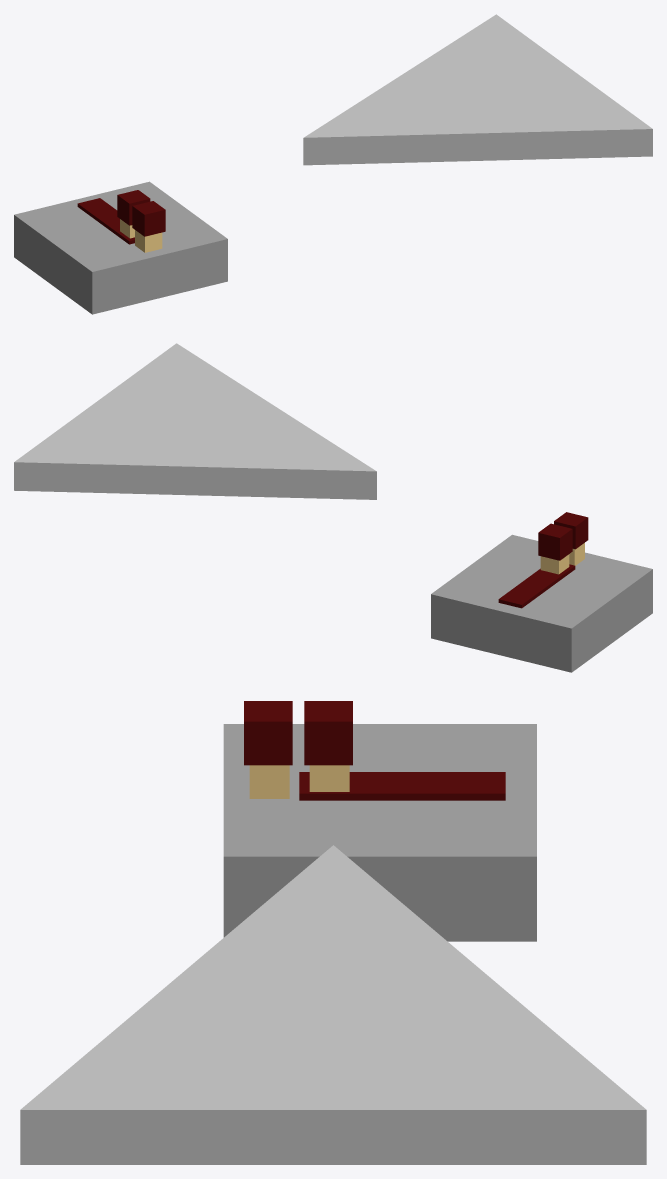
The model's file is RepeaterModel2.obj.
The picture shows the model from 3 angles, top to bottom: view 1: azimuth 30°, elevation 25°; view 2: azimuth 150°, elevation 25°; view 3: azimuth 270°, elevation 25°; orthographic projection. The views are drawn at different scales.
Parts seen in each view (by area): view 1: Plane, virtexMap; view 2: Plane, virtexMap; view 3: Plane, virtexMap.
Boxes of the visible parts, x1,y1,x2,y2 form: Plane: [303, 14, 652, 165]; virtexMap: [14, 181, 227, 314]; Plane: [14, 343, 376, 499]; virtexMap: [431, 512, 652, 672]; Plane: [20, 845, 646, 1164]; virtexMap: [223, 701, 536, 941].
Bounding box in the file's own units: 3.76 × 0.694 × 2.
